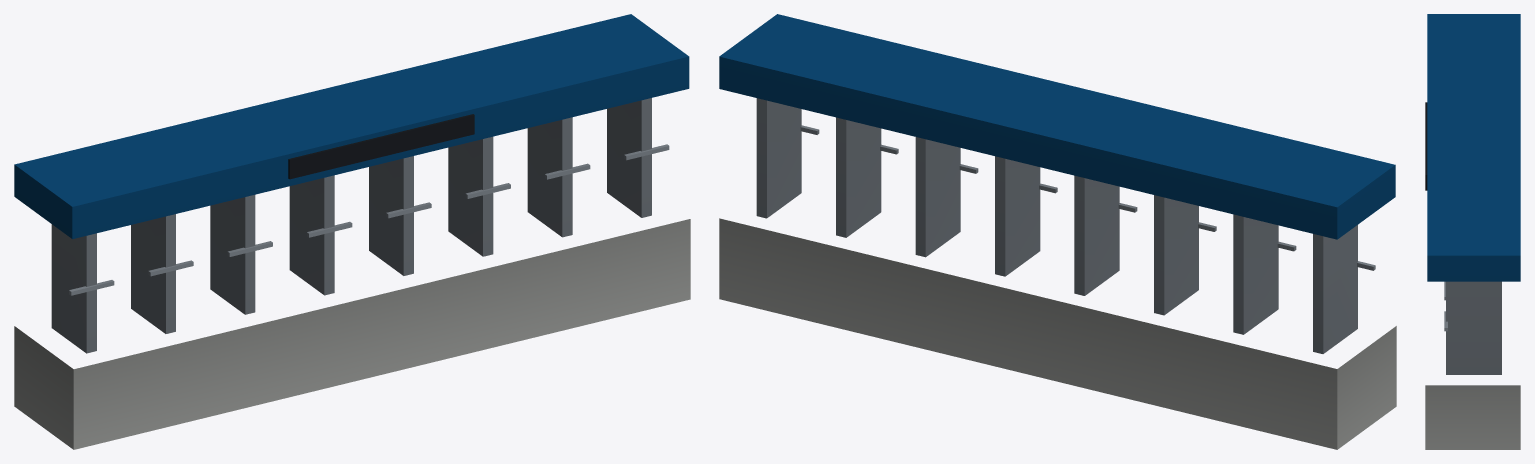
The model's file is entrance-gate.glb.
3 views of the same model, side by side, from view 1: azimuth 30°, elevation 25°; view 2: azimuth 150°, elevation 25°; view 3: azimuth 270°, elevation 25° (orthographic). The views are drawn at different scales.
Parts seen in each view (by area): view 1: entrance-gate; view 2: entrance-gate; view 3: entrance-gate.
Part boxes in pixels (x1,y1,x2,y2): entrance-gate: (14, 14, 690, 449); entrance-gate: (719, 14, 1396, 449); entrance-gate: (1425, 14, 1520, 449).
Bounding box in the file's own units: 24 × 9 × 4.
